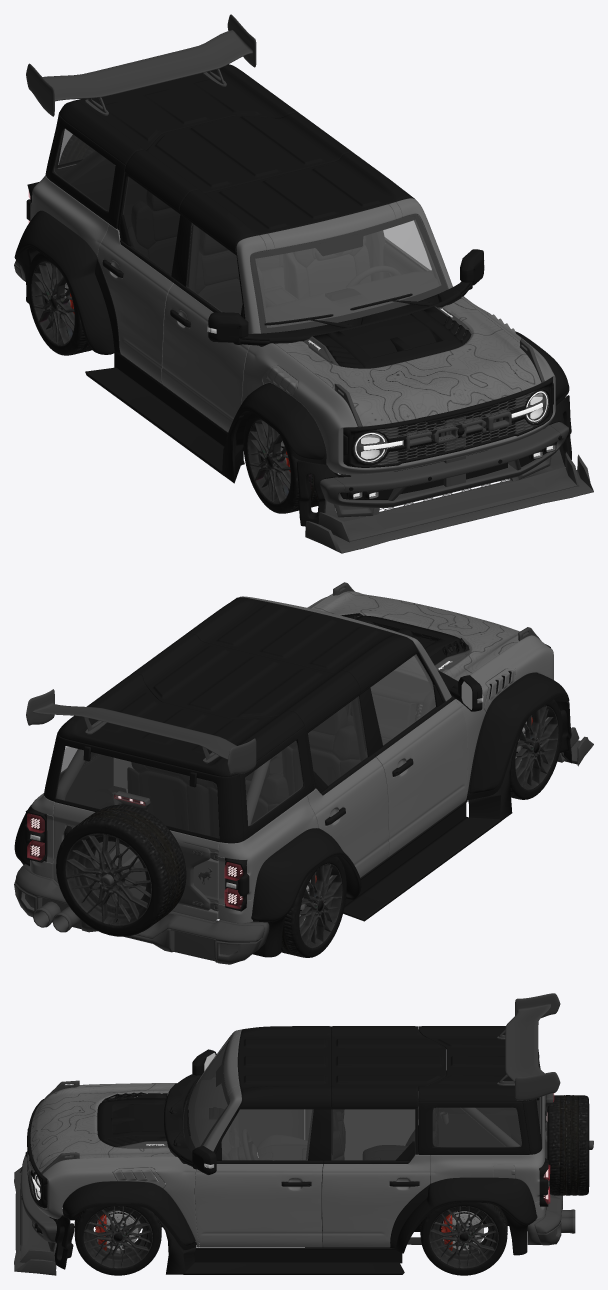
3 renders of one model, top to bottom at view 1: azimuth 30°, elevation 25°; view 2: azimuth 150°, elevation 25°; view 3: azimuth 270°, elevation 25°, orthographic. The views are drawn at different scales.
Visible parts, largest first — view 1: ford_bronco06.005, Body, windows, ford_bronco06.010, ford_bronco06.012, Interior.001, ford_bronco06.008, ford_bronco06.002, ford_bronco06.013, ford_bronco06.007, ford_bronco06, ford_bronco06.004 (+4 smaller); view 2: ford_bronco06.005, Body, windows, Sports wheel.004, ford_bronco06.010, Interior.001, ford_bronco06.002, ford_bronco06.001, ford_bronco06.007, Sports wheel.002, ford_bronco06.013, Sports wheel.001 (+6 smaller); view 3: Body, ford_bronco06.005, windows, ford_bronco06.010, ford_bronco06.002, Sports wheel.003, ford_bronco06.004, Sports wheel.005, Sports wheel.004, ford_bronco06.013, Interior.001, Interior (+6 smaller).
Part boxes in pixels (x1=…): ford_bronco06.005: x1=26, y1=64, x2=557, y2=499; Body: x1=30, y1=164, x2=555, y2=474; windows: x1=54, y1=128, x2=448, y2=333; ford_bronco06.010: x1=14, y1=210, x2=569, y2=464; ford_bronco06.012: x1=305, y1=449, x2=593, y2=553; Interior.001: x1=127, y1=190, x2=370, y2=314; ford_bronco06.008: x1=320, y1=422, x2=568, y2=517; ford_bronco06.002: x1=85, y1=258, x2=561, y2=491; ford_bronco06.013: x1=26, y1=14, x2=256, y2=116; ford_bronco06.007: x1=60, y1=151, x2=544, y2=486; ford_bronco06: x1=29, y1=159, x2=548, y2=462; ford_bronco06.004: x1=54, y1=159, x2=446, y2=322; ford_bronco06.005: x1=25, y1=597, x2=550, y2=911; Body: x1=30, y1=591, x2=553, y2=923; windows: x1=56, y1=654, x2=435, y2=837; Sports wheel.004: x1=56, y1=804, x2=186, y2=936; ford_bronco06.010: x1=14, y1=672, x2=569, y2=957; Interior.001: x1=127, y1=706, x2=360, y2=837; ford_bronco06.002: x1=343, y1=737, x2=517, y2=921; ford_bronco06.001: x1=14, y1=792, x2=269, y2=964; ford_bronco06.007: x1=33, y1=582, x2=540, y2=932; Sports wheel.002: x1=281, y1=856, x2=346, y2=957; ford_bronco06.013: x1=26, y1=689, x2=256, y2=774; Sports wheel.001: x1=490, y1=693, x2=562, y2=799; Body: x1=30, y1=1029, x2=545, y2=1247; ford_bronco06.005: x1=27, y1=1026, x2=548, y2=1234; windows: x1=183, y1=1039, x2=541, y2=1160; ford_bronco06.010: x1=62, y1=1096, x2=537, y2=1255; ford_bronco06.002: x1=21, y1=1168, x2=429, y2=1274; Sports wheel.003: x1=420, y1=1202, x2=507, y2=1275; ford_bronco06.004: x1=94, y1=1040, x2=540, y2=1247; Sports wheel.005: x1=74, y1=1206, x2=161, y2=1275; Sports wheel.004: x1=547, y1=1095, x2=589, y2=1195; ford_bronco06.013: x1=505, y1=993, x2=560, y2=1100; Interior.001: x1=257, y1=1107, x2=438, y2=1179; Interior: x1=194, y1=1077, x2=344, y2=1160.
Bounding box in the file's own units: 2.35 × 1.91 × 5.23.
51 materials, 12 textured.
